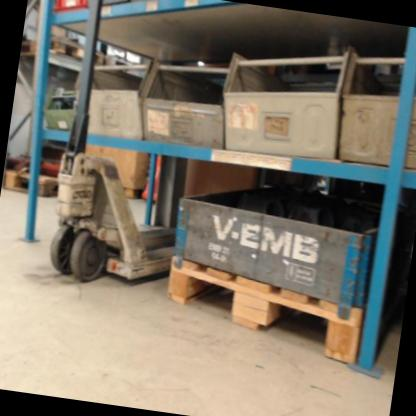pallet: (158, 255, 369, 367), (19, 31, 86, 67), (0, 166, 61, 200), (103, 53, 138, 73)
pallet_truck: (33, 0, 213, 298)
small_load_carrier: (48, 0, 90, 24)
